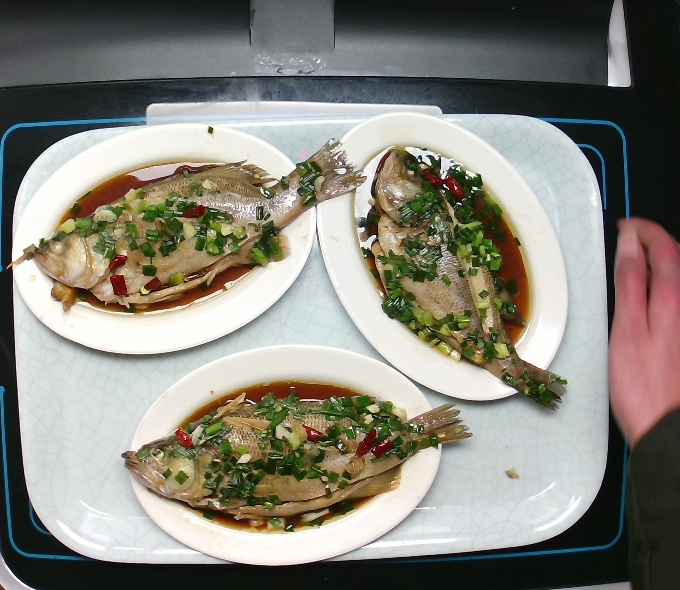wcq-LuYu: (5, 135, 367, 316), (344, 141, 572, 415), (116, 377, 477, 535)
